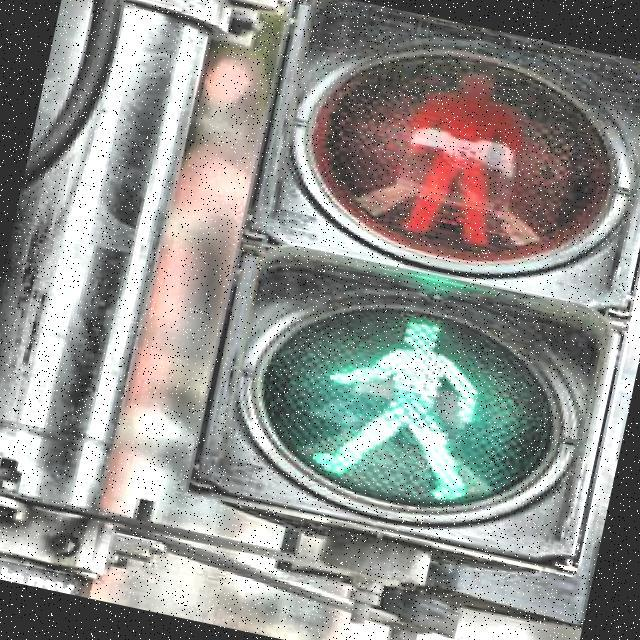green_light: (298, 296, 508, 510)
